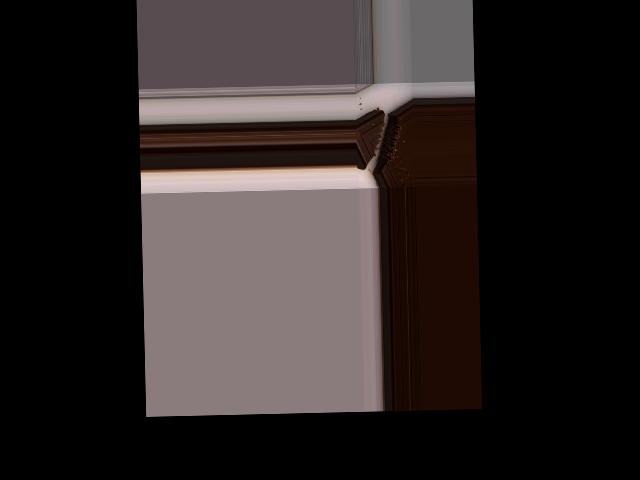chocolate: (354, 97, 414, 188)
